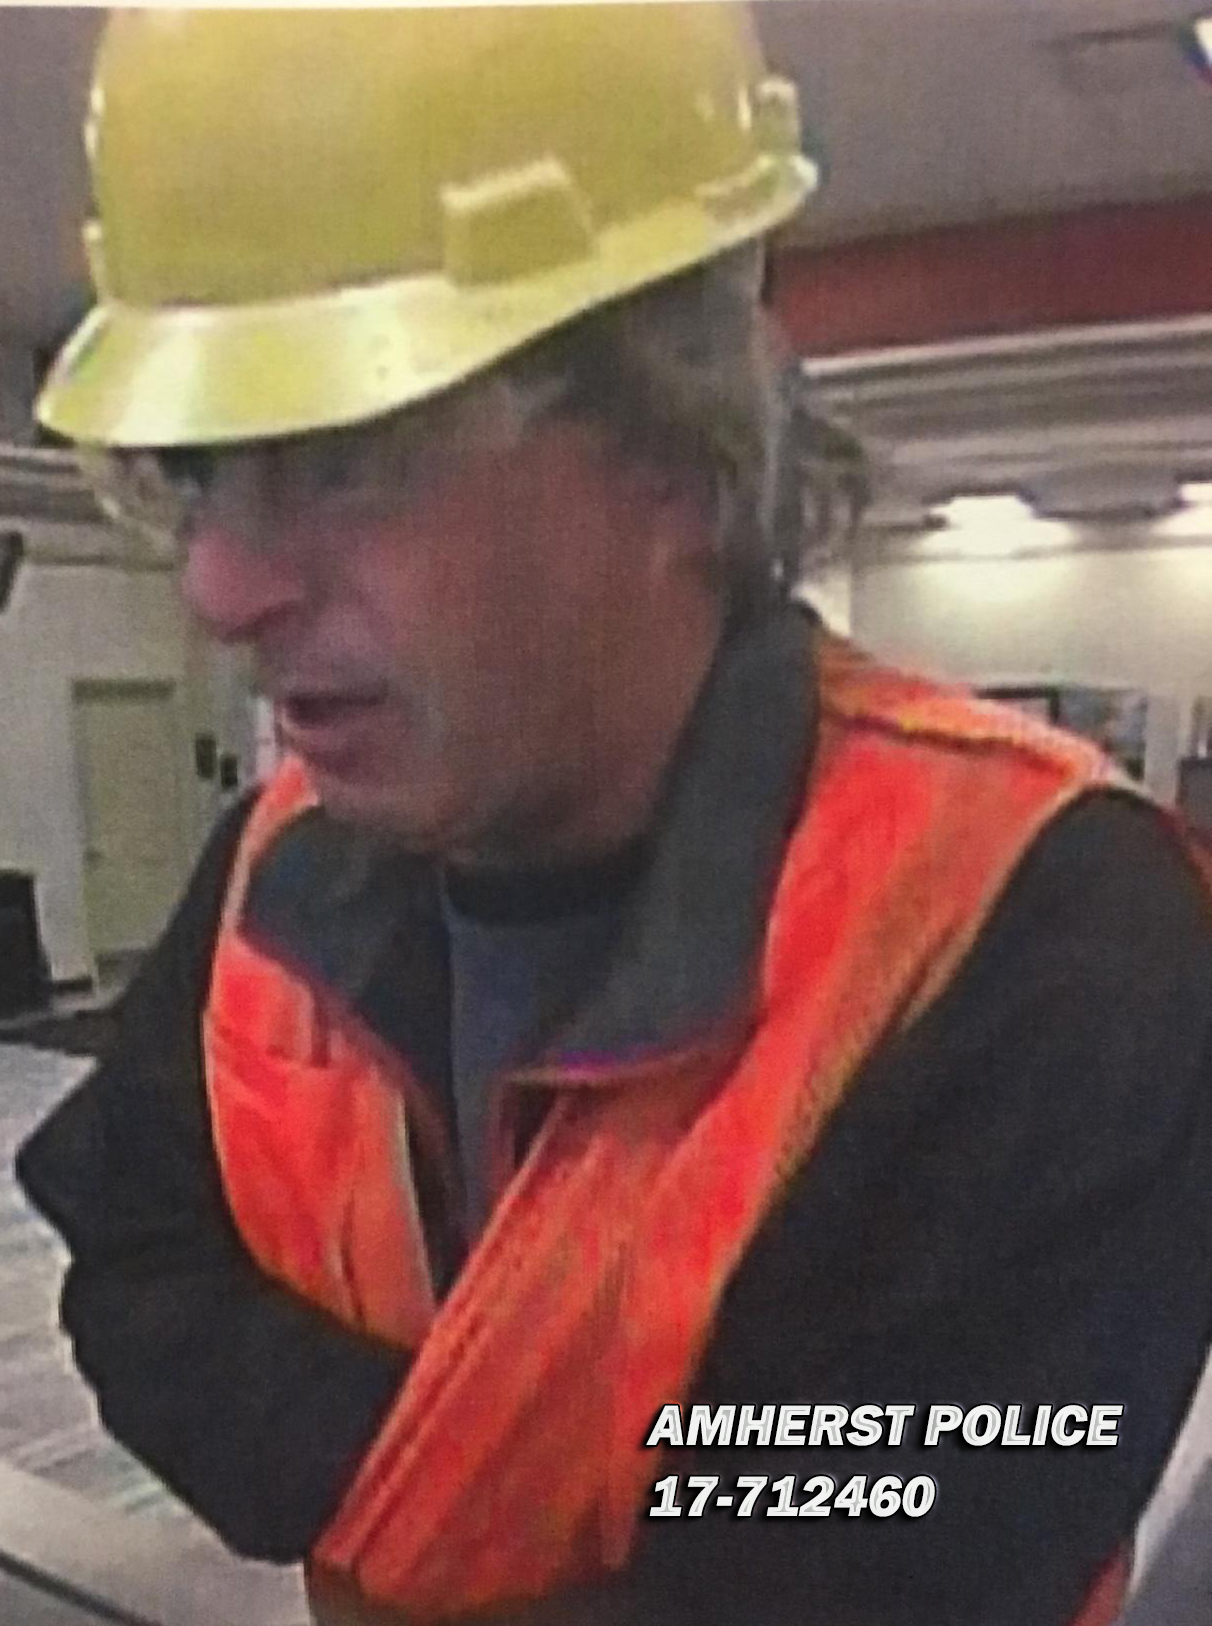helmet: (37, 17, 829, 440)
